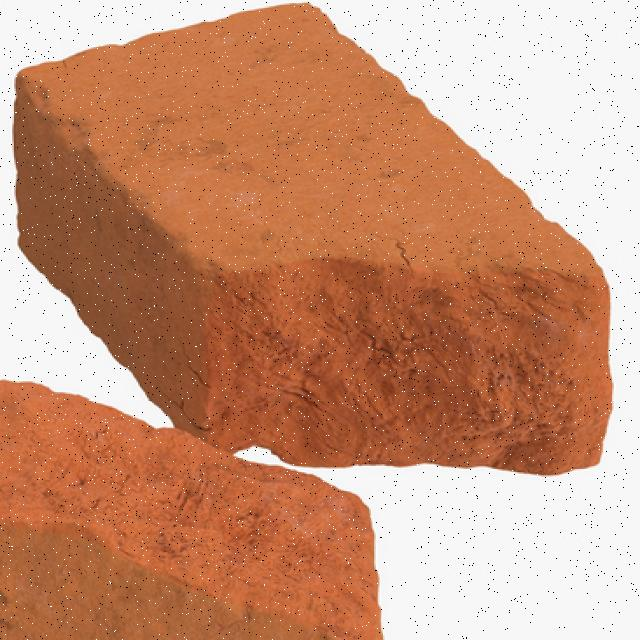bricks_ruin: (12, 0, 612, 472), (0, 380, 385, 640)
